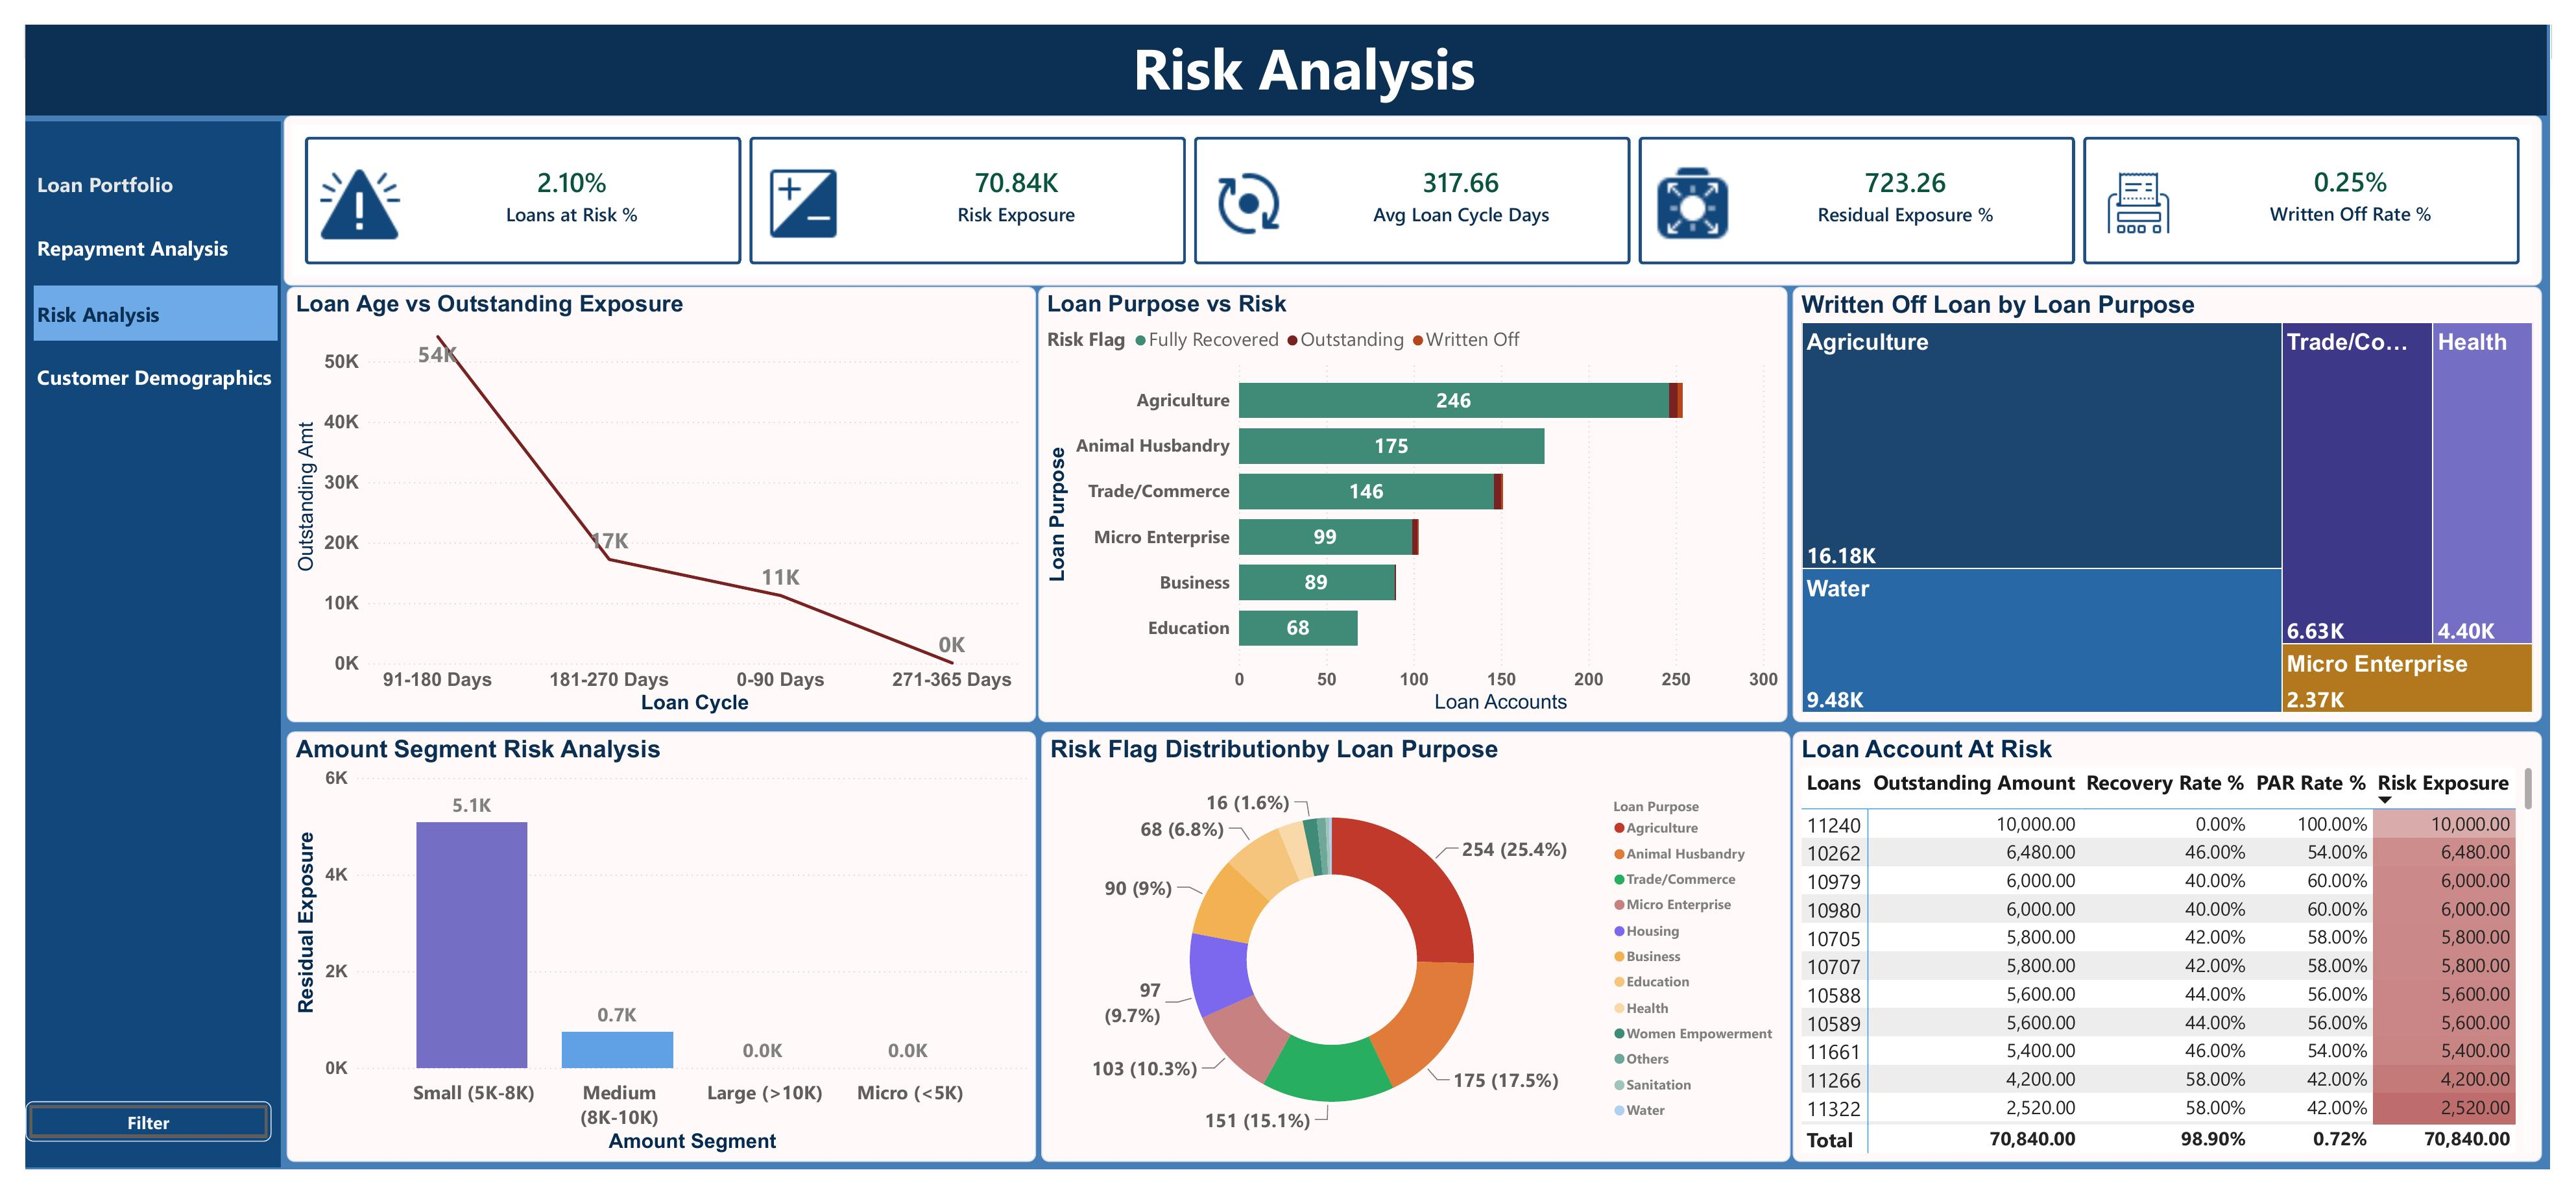

The dashboard page shown, as its layout file describes it:
{"tool":"powerbi","page":{"name":"Risk_Analysis","canvas":[2493,1130],"ordinal":2},"visuals":[{"type":"lineChart","title":"Loan Age vs Outstanding Exposure","fields":{"Category":["loan_fact.loan_cycle_bucket"],"Y":["Sum(loan_fact.total_outstanding)"]},"box":[259.5,261.2,740,430],"z":0},{"type":"cardVisual","fields":{"Data":["risk_analysis.Loans at Risk %","risk_analysis.Risk Exposure","risk_analysis.Avg Loan Cycle Days","risk_analysis.Residual Exposure %","risk_analysis.Written Off Rate"]},"box":[255,90,2230,167.5],"z":1000},{"type":"treemap","title":"Written Off Loan by Loan Purpose","fields":{"Group":["loan_fact.loan_purpose_label"],"Values":["Sum(loan_fact.total_writtenoff)"]},"box":[1747,261.2,740,430],"z":2000},{"type":"clusteredColumnChart","title":"Amount Segment Risk Analysis","fields":{"Category":["loan_fact.amount_segment"],"Y":["risk_analysis.Residual Exposure %"]},"box":[257.5,697.5,740,425],"z":3000},{"type":"barChart","title":"Loan Purpose vs Risk","fields":{"Category":["loan_fact.loan_purpose_label"],"Y":["CountNonNull(loan_fact.loan_id)"],"Series":["loan_fact.risk_flag"]},"box":[1003.3,261.7,738.3,430],"z":4000},{"type":"donutChart","title":"Risk Flag Distributionby Loan Purpose","fields":{"Category":["loan_fact.loan_purpose_label"],"Y":["CountNonNull(loan_fact.risk_flag)"]},"box":[1002.5,697.5,740,425],"z":5000},{"type":"shape","box":[0,0,2490,90],"z":6000},{"type":"shape","box":[0,90,252,1032],"z":7000},{"type":"textbox","box":[0,0,2494,96],"z":8000},{"type":"actionButton","box":[8,130,241,54],"z":9000},{"type":"actionButton","box":[7.8,193.3,241,54],"z":10000},{"type":"actionButton","box":[7.8,257.8,241,54],"z":11000},{"type":"actionButton","box":[7.8,320,241,54],"z":12000},{"type":"pivotTable","title":"Loan Account At Risk","fields":{"Values":["loan_portfolio.Total Outstanding","loan_portfolio.Principal Recovery Rate %","loan_portfolio.PAR Rate %","risk_analysis.Risk Exposure"],"Rows":["loan_fact.loan_id"]},"box":[1745,697.5,740,425],"z":13000},{"type":"actionButton","box":[12.5,1055,232.5,60],"z":14000}]}

Visuals, with their boxes on the page's 2493x1130 design canvas (x1, y1, x2, y2). These are canvas units, not pixel positions in the 2576x1194 screenshot, which may show the page scaled, cropped or inside an application window:
"Loan Age vs Outstanding Exposure" lineChart: l=260, t=261, r=1000, b=691
cardVisual - risk_analysis.Loans at Risk % x risk_analysis.Risk Exposure: l=255, t=90, r=2485, b=258
"Written Off Loan by Loan Purpose" treemap: l=1747, t=261, r=2487, b=691
"Amount Segment Risk Analysis" clusteredColumnChart: l=258, t=698, r=998, b=1122
"Loan Purpose vs Risk" barChart: l=1003, t=262, r=1742, b=692
"Risk Flag Distributionby Loan Purpose" donutChart: l=1002, t=698, r=1742, b=1122
shape: l=0, t=0, r=2490, b=90
shape: l=0, t=90, r=252, b=1122
textbox: l=0, t=0, r=2494, b=96
actionButton: l=8, t=130, r=249, b=184
actionButton: l=8, t=193, r=249, b=247
actionButton: l=8, t=258, r=249, b=312
actionButton: l=8, t=320, r=249, b=374
"Loan Account At Risk" pivotTable: l=1745, t=698, r=2485, b=1122
actionButton: l=12, t=1055, r=245, b=1115
